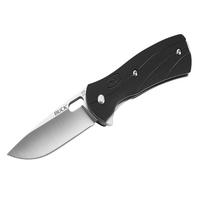knife: (5, 27, 196, 163)
